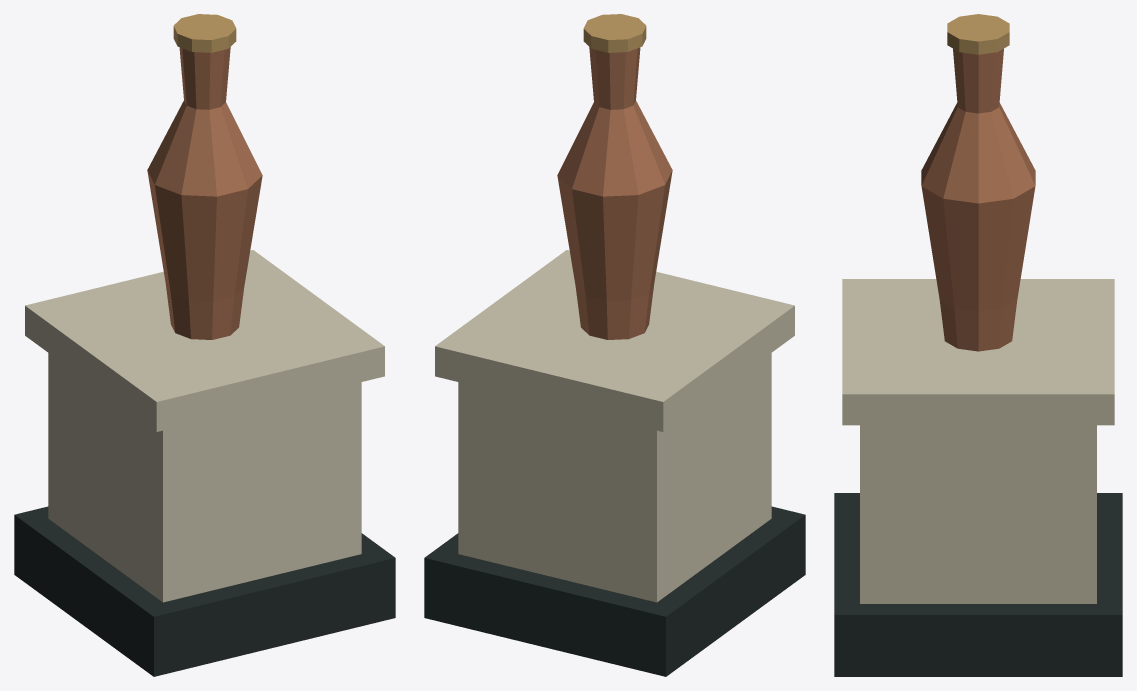
The model's file is LP_Exhibition_PedestalSE.fbx.
3 renders of one model, left to right at view 1: azimuth 30°, elevation 25°; view 2: azimuth 150°, elevation 25°; view 3: azimuth 270°, elevation 25°, orthographic. The views are drawn at different scales.
Visible parts, largest first — view 1: M_Central_Limestone, Charcoal, Terracotta, AgedBrass; view 2: M_Central_Limestone, Charcoal, Terracotta, AgedBrass; view 3: M_Central_Limestone, Charcoal, Terracotta, AgedBrass.
Boxes of the visible parts, <box> form: M_Central_Limestone: <box>25,250,384,602</box>; Charcoal: <box>14,506,395,676</box>; Terracotta: <box>147,47,262,339</box>; AgedBrass: <box>173,14,236,52</box>; M_Central_Limestone: <box>435,250,794,602</box>; Charcoal: <box>424,506,805,676</box>; Terracotta: <box>557,47,672,339</box>; AgedBrass: <box>583,14,646,52</box>; M_Central_Limestone: <box>842,279,1114,603</box>; Charcoal: <box>834,493,1122,676</box>; Terracotta: <box>921,48,1035,351</box>; AgedBrass: <box>947,14,1009,54</box>.
Bounding box in the file's own units: 80 × 180 × 80.
